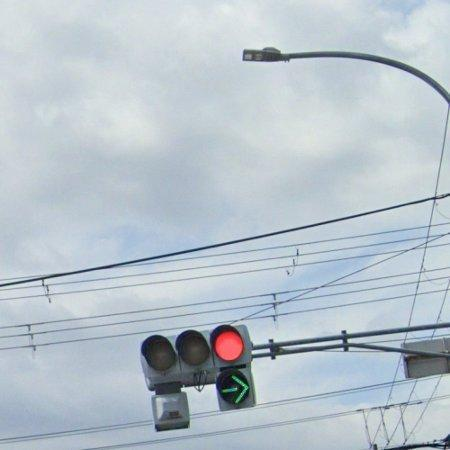traffic lights: (138, 324, 261, 388), (148, 389, 195, 432), (215, 366, 256, 414)
